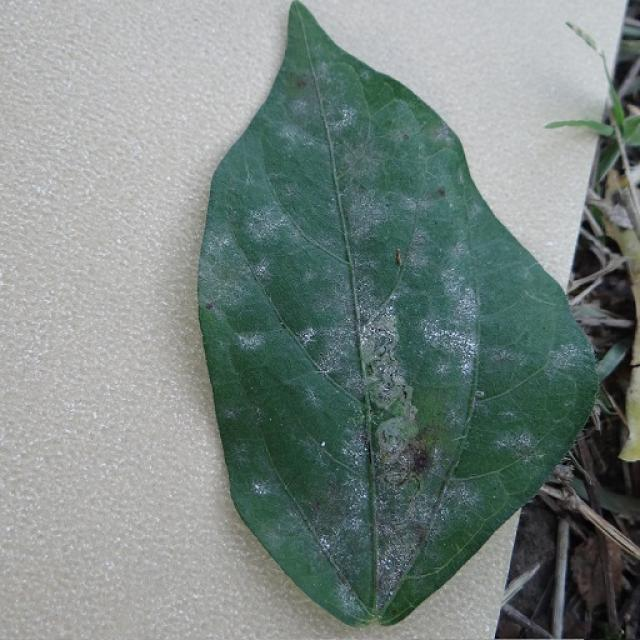Blackgram: (199, 2, 596, 624)
Powdery_Mildew: (291, 283, 456, 604), (294, 84, 441, 300), (268, 108, 339, 200), (340, 167, 409, 254), (362, 313, 415, 426), (418, 306, 485, 373), (243, 198, 306, 261), (377, 518, 423, 597), (425, 305, 479, 370), (543, 344, 591, 412), (323, 474, 367, 538), (375, 416, 417, 467), (339, 140, 380, 185), (361, 317, 399, 363), (368, 372, 406, 411), (448, 291, 479, 328), (327, 103, 357, 136), (557, 341, 586, 375), (235, 329, 267, 352), (299, 327, 316, 345), (380, 554, 395, 572), (319, 535, 333, 554), (253, 480, 269, 496), (255, 263, 269, 278), (366, 360, 375, 374), (321, 441, 326, 447), (492, 494, 497, 499), (269, 417, 273, 422)
